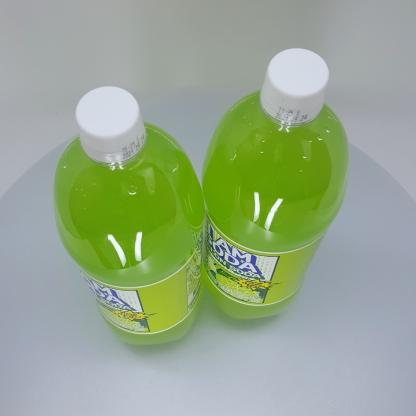-----------: (201, 48, 350, 321), (53, 86, 205, 346)
